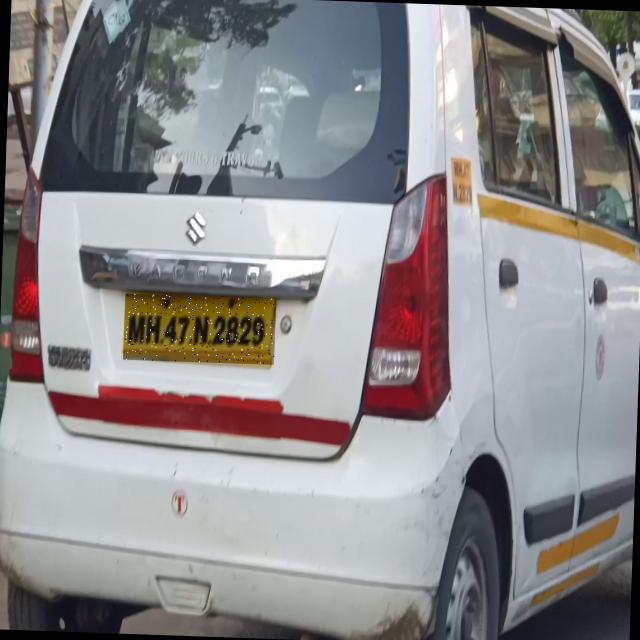Plate: (124, 295, 277, 366)
